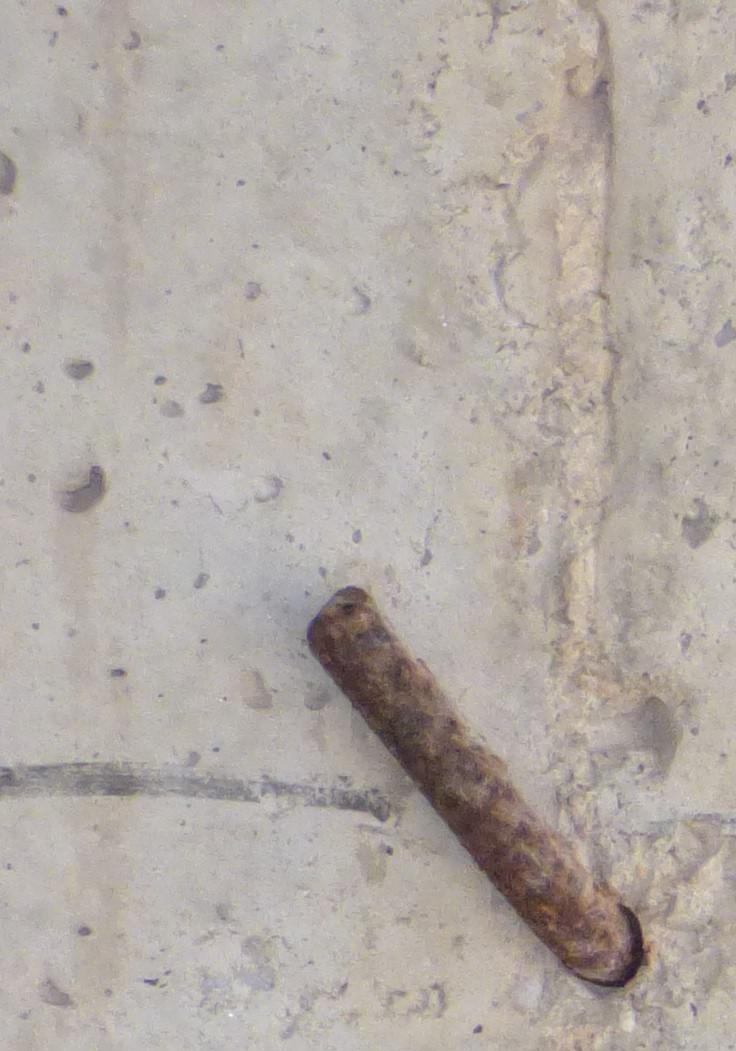Exposed reinforcement: (306, 584, 637, 981)
